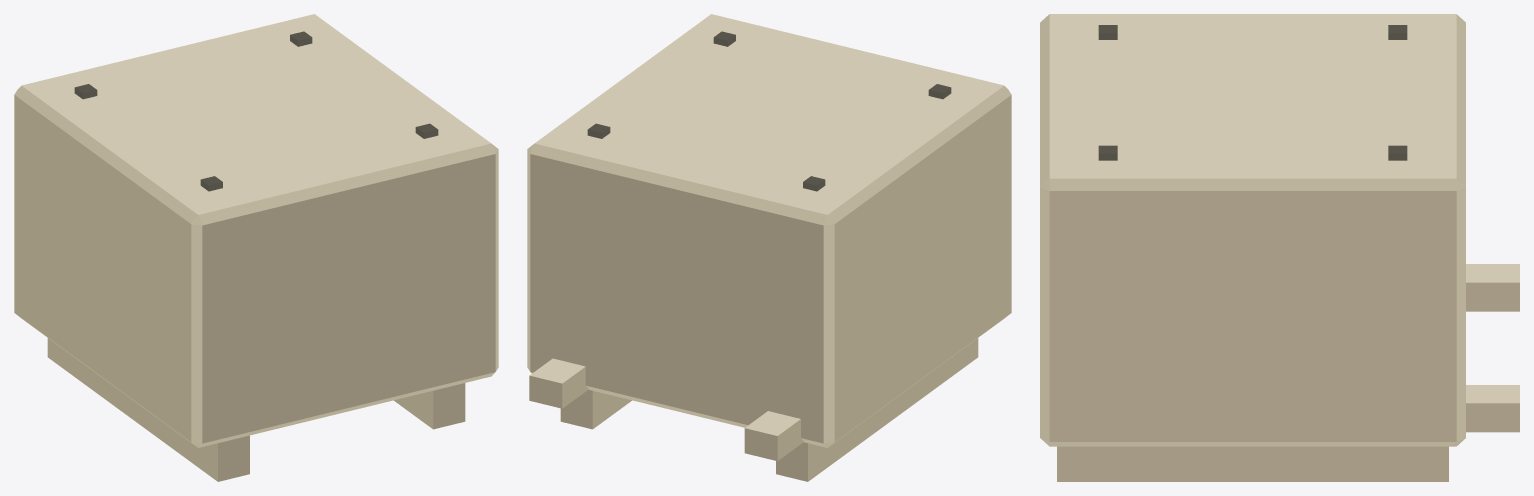
File: ERA_M5_R_LOW_13.glb
3 views of the same model, side by side, from view 1: azimuth 30°, elevation 25°; view 2: azimuth 150°, elevation 25°; view 3: azimuth 270°, elevation 25° (orthographic). The views are drawn at different scales.
Parts seen in each view (by area): view 1: ERA_M5_R_LOW_13.001; view 2: ERA_M5_R_LOW_13.001; view 3: ERA_M5_R_LOW_13.001.
Boxes of the visible parts, x1,y1,x2,y2 form: ERA_M5_R_LOW_13.001: (14, 14, 498, 481); ERA_M5_R_LOW_13.001: (527, 14, 1011, 481); ERA_M5_R_LOW_13.001: (1040, 14, 1519, 481).
Bounding box in the file's own units: 0.3451 × 0.3015 × 0.4055.
